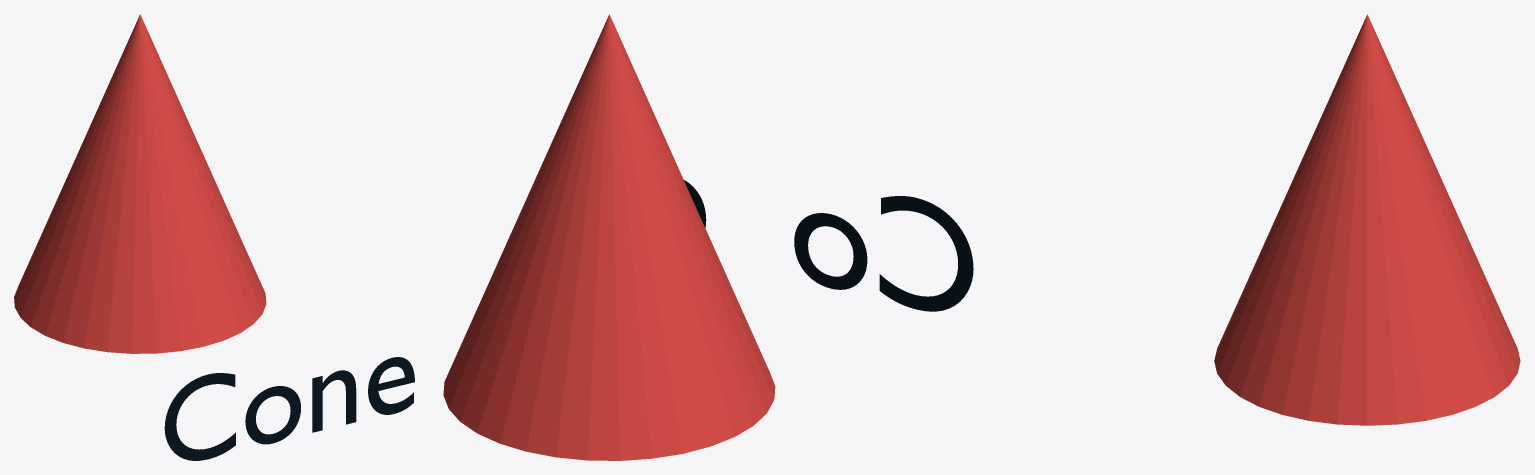
The model's file is cone_static.gltf.
3 renders of one model, left to right at view 1: azimuth 30°, elevation 25°; view 2: azimuth 150°, elevation 25°; view 3: azimuth 270°, elevation 25°, orthographic. The views are drawn at different scales.
Parts seen in each view (by area): view 1: Cone, Text.001; view 2: Cone, Text.001; view 3: Cone.
Boxes of the visible parts, x1=… form: Cone: x1=14, y1=14, x2=266, y2=353; Text.001: x1=164, y1=357, x2=414, y2=460; Cone: x1=443, y1=14, x2=775, y2=460; Text.001: x1=684, y1=180, x2=973, y2=311; Cone: x1=1214, y1=14, x2=1520, y2=425.
Size of the model in its own units: 0.2285 by 0.2747 by 0.3383.
